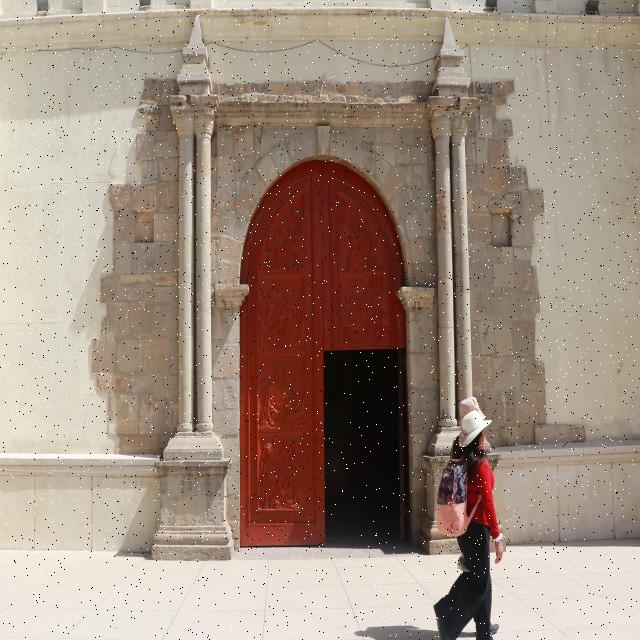PORTADA CENTRAL: (222, 128, 433, 560)
SIMETRIA COLONIAL: (109, 6, 545, 564)
colonial-architecture-: (0, 0, 632, 560)
